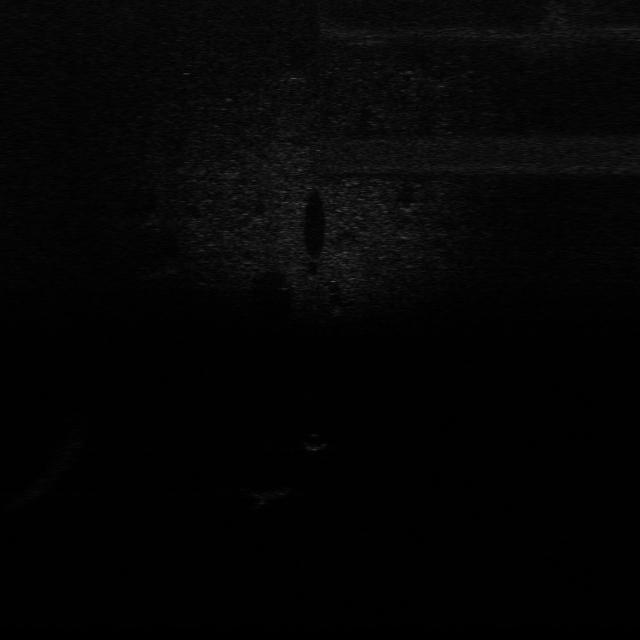ball: (294, 430, 330, 454)
square cage: (243, 480, 302, 502)
